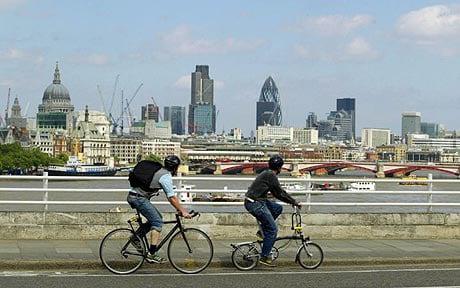bikerider: (82, 150, 217, 275), (222, 154, 330, 274)
